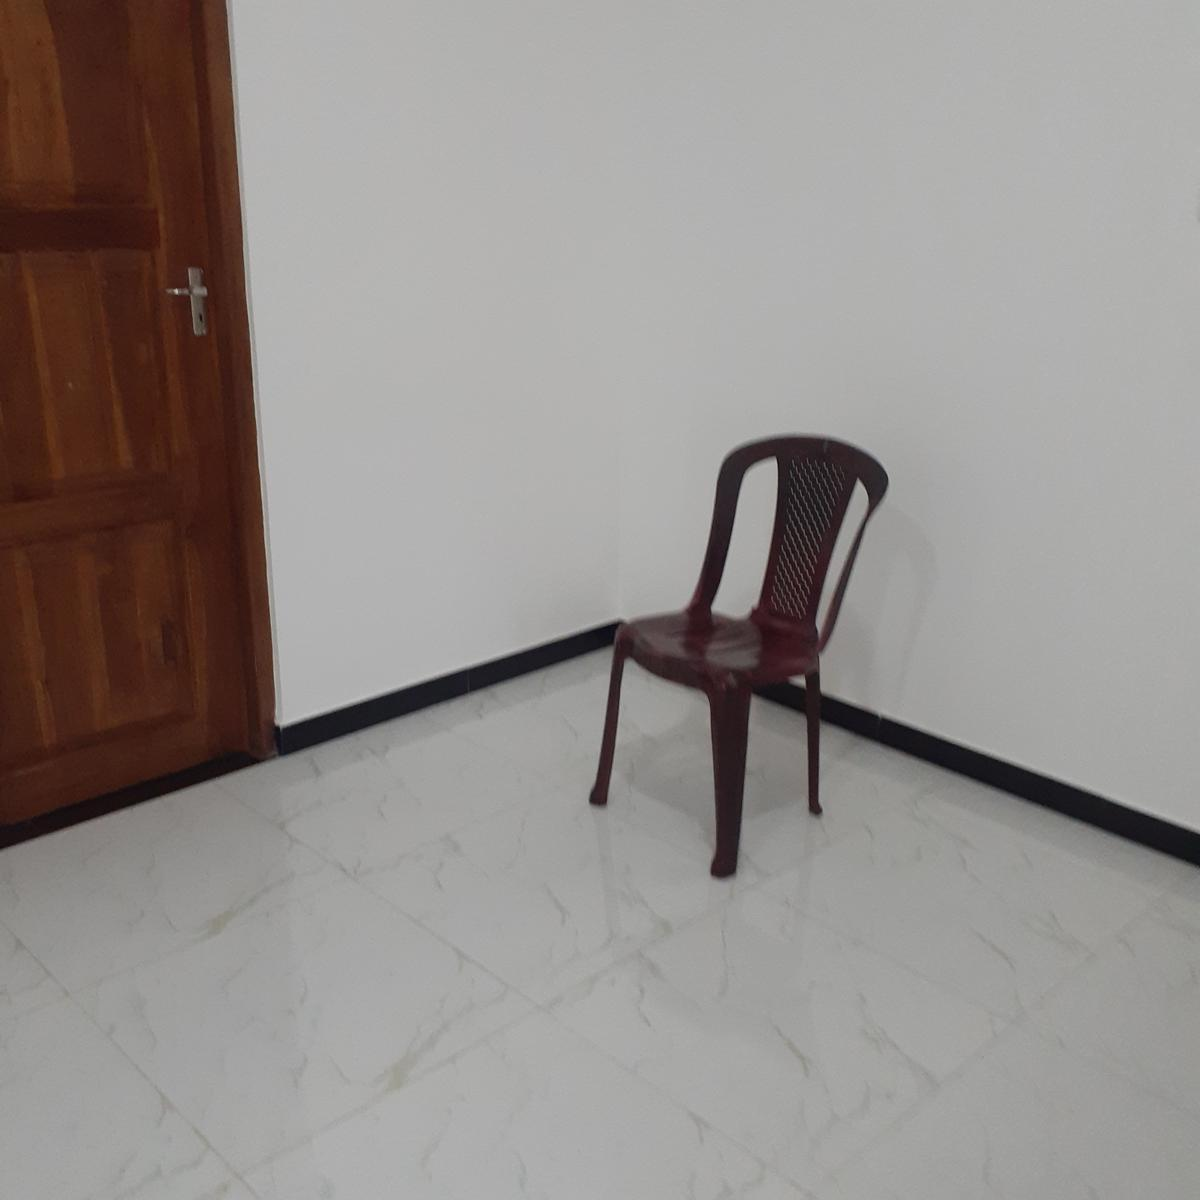Chair: (590, 432, 886, 883)
